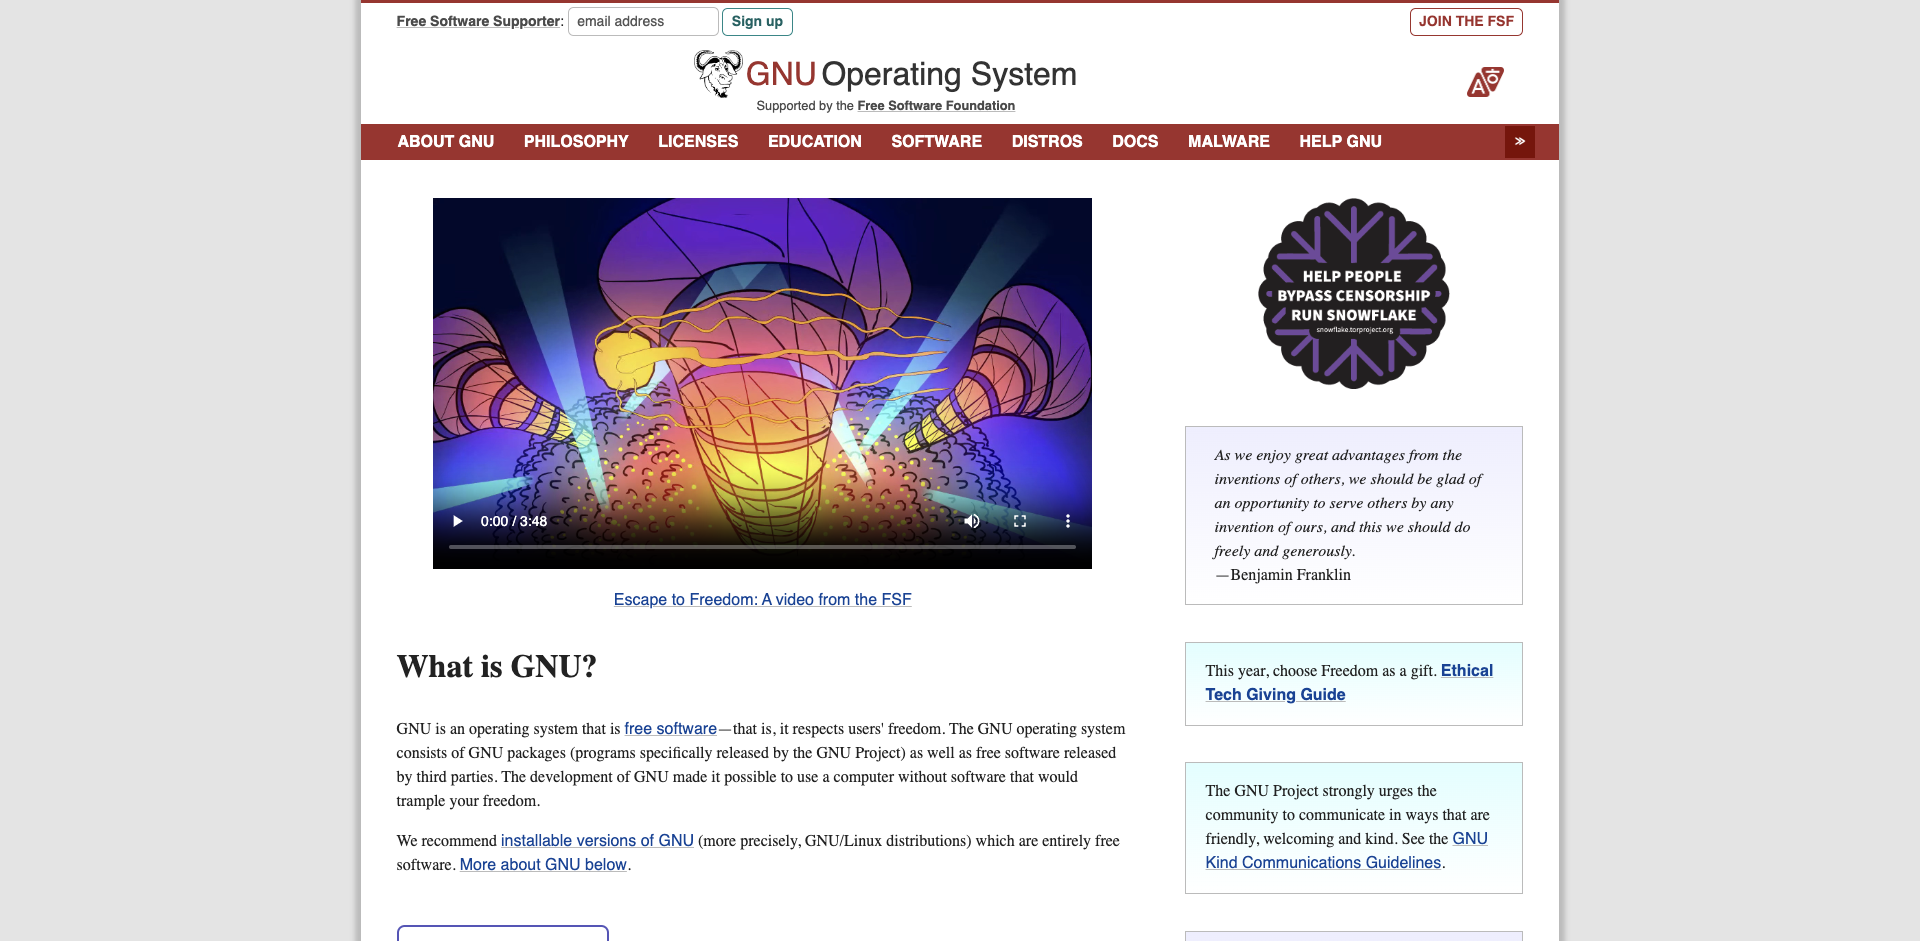button: (1227, 7, 1523, 37), (397, 925, 609, 941)
input: (568, 7, 719, 36), (722, 7, 792, 37)
label: (397, 13, 568, 29)
link: (1206, 662, 1494, 705), (1206, 831, 1488, 872), (838, 161, 1044, 192), (694, 65, 1078, 82), (613, 592, 912, 609), (388, 161, 529, 192), (514, 126, 638, 158), (704, 161, 827, 192), (388, 126, 503, 158), (758, 126, 872, 158), (1056, 161, 1168, 192), (882, 126, 992, 158), (397, 925, 609, 941), (501, 832, 694, 849), (1289, 126, 1392, 158), (1259, 201, 1450, 218), (1178, 126, 1280, 158), (1409, 7, 1523, 36), (649, 126, 748, 158), (459, 855, 627, 874), (539, 161, 632, 192), (1002, 126, 1092, 158), (1179, 161, 1269, 192), (397, 13, 560, 29), (857, 98, 1015, 113), (1103, 126, 1168, 158), (624, 719, 718, 738), (642, 161, 694, 192), (1467, 67, 1504, 97), (1505, 126, 1536, 158)
